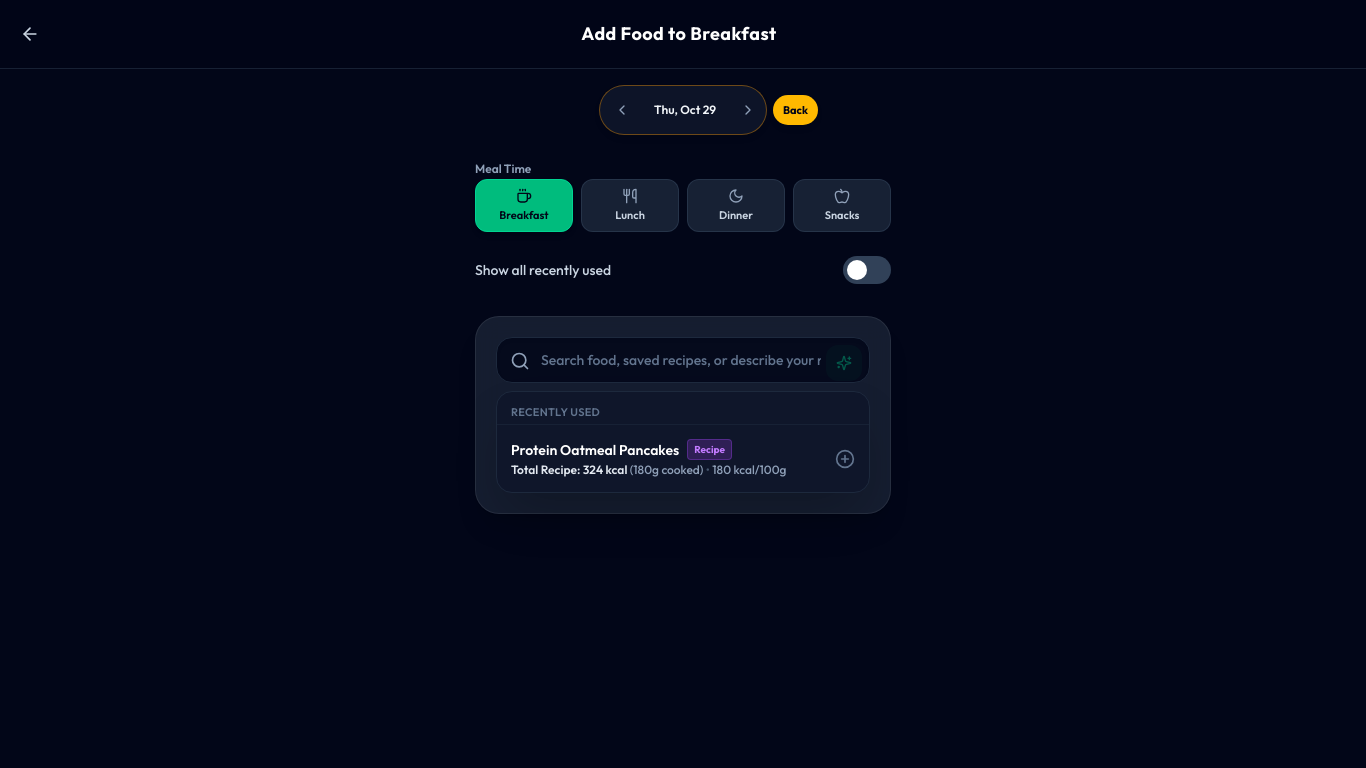
Scenario: AddFoodModal - Pre-filled Recently Used Foods by Meal Type › ignores the meal type filter when the toggle is enabled and restores it when disabled
The image size is (1366, 768).
Expected: the text "Roasted Turkey Breast" is not shown
Click the switch named "Show all recently used" at (867, 270), box [843, 256, 891, 284]
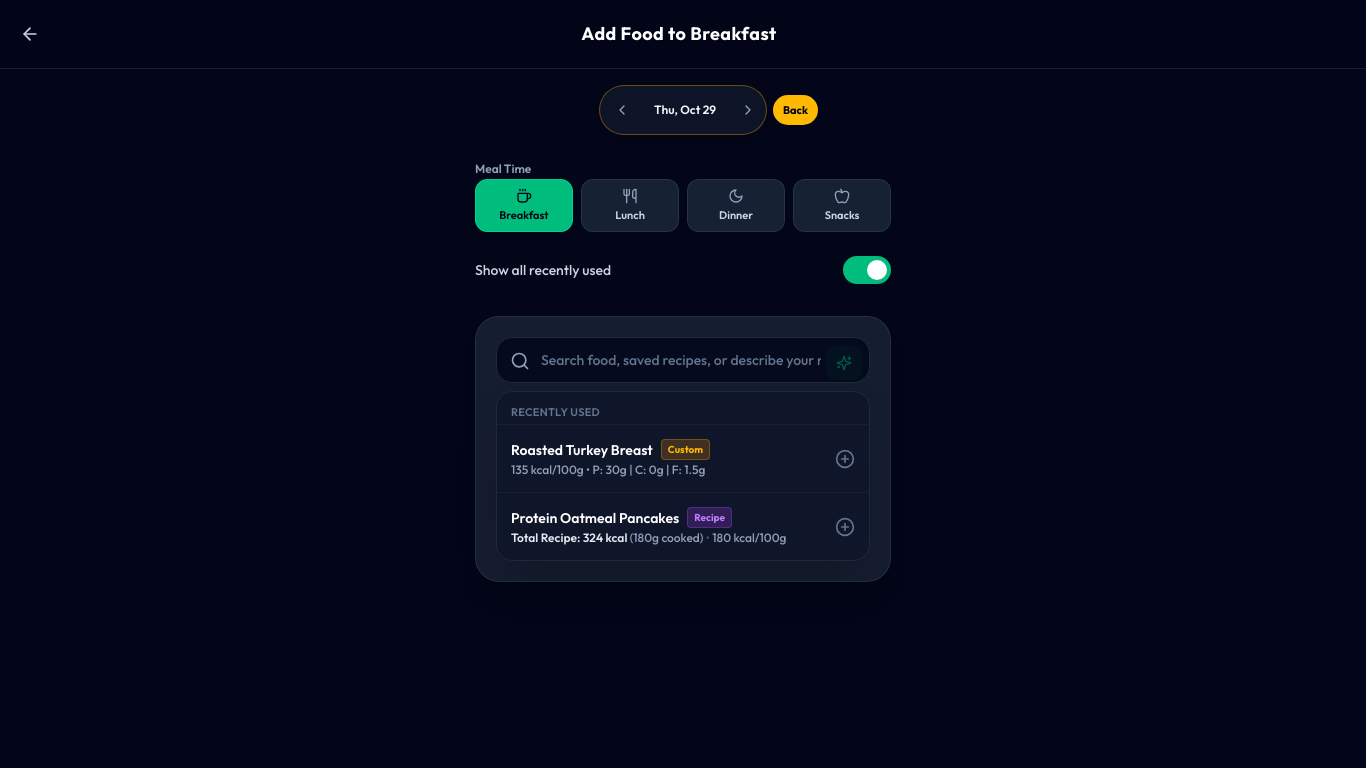
Expected: the text "Protein Oatmeal Pancakes" is shown, [511, 508, 679, 528]
Now the text "Roasted Turkey Breast" is shown, box [511, 440, 653, 460]
Click the switch named "Show all recently used" at (867, 270), box [843, 256, 891, 284]
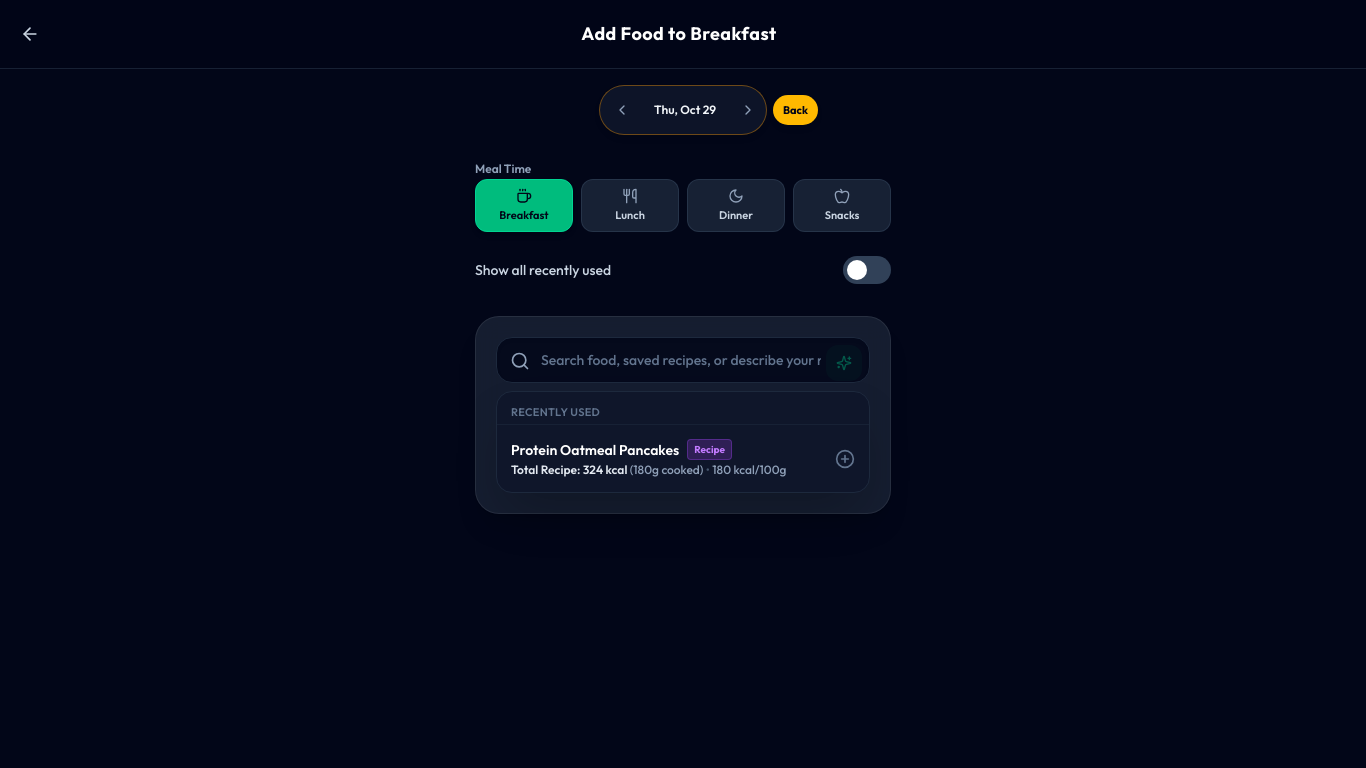
Expected: the text "Protein Oatmeal Pancakes" is shown, [511, 440, 679, 460]
Now the button "Roasted Turkey Breast" is gone
